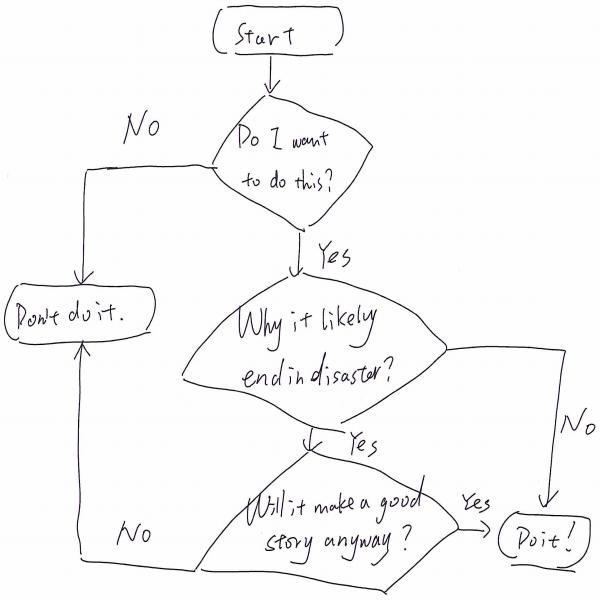arrow: (56, 138, 207, 282), (452, 331, 566, 506), (70, 343, 98, 567), (72, 166, 95, 285), (286, 231, 308, 278), (300, 430, 322, 455), (266, 58, 279, 100)
decision: (183, 274, 449, 429), (197, 454, 458, 593), (211, 96, 376, 229)
terminator: (216, 7, 342, 54), (500, 513, 590, 567)
text: (234, 311, 394, 390), (252, 493, 414, 563), (238, 121, 335, 195), (14, 296, 124, 330), (236, 17, 300, 53), (121, 106, 165, 149), (514, 524, 577, 554), (314, 234, 355, 278), (112, 516, 156, 555), (557, 402, 593, 449), (350, 430, 384, 466)
